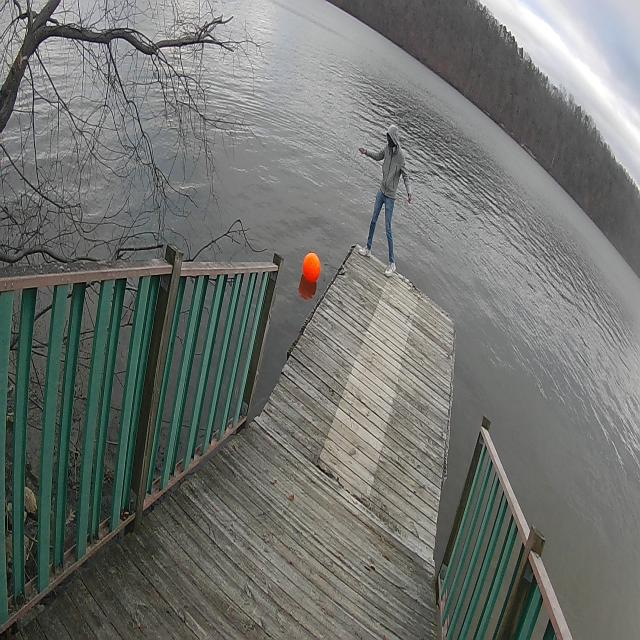Buoy: (299, 248, 323, 290)
